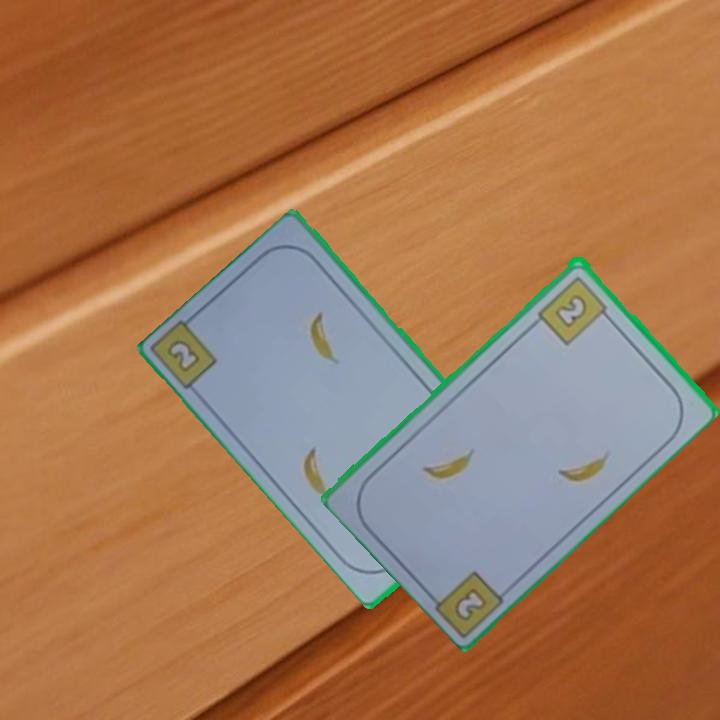2b: (534, 272, 614, 348), (454, 587, 487, 621), (167, 339, 200, 372)
